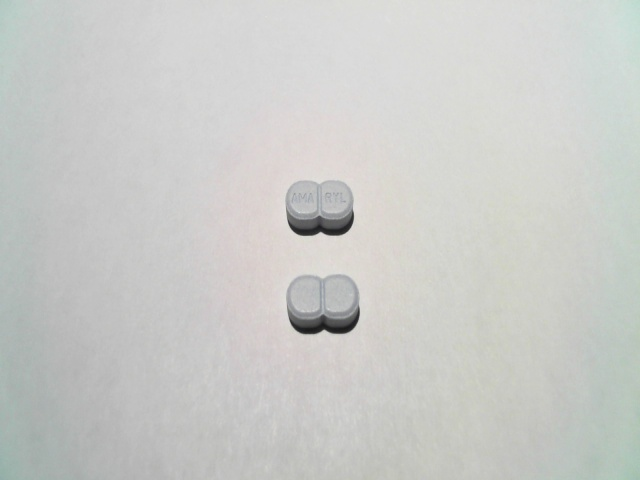A: (290, 191, 298, 207), (307, 192, 313, 208)
L: (339, 191, 349, 205)
M: (298, 191, 306, 207)
R: (323, 192, 333, 206)
Y: (334, 191, 339, 207)
|: (317, 275, 330, 322), (315, 178, 322, 218)
